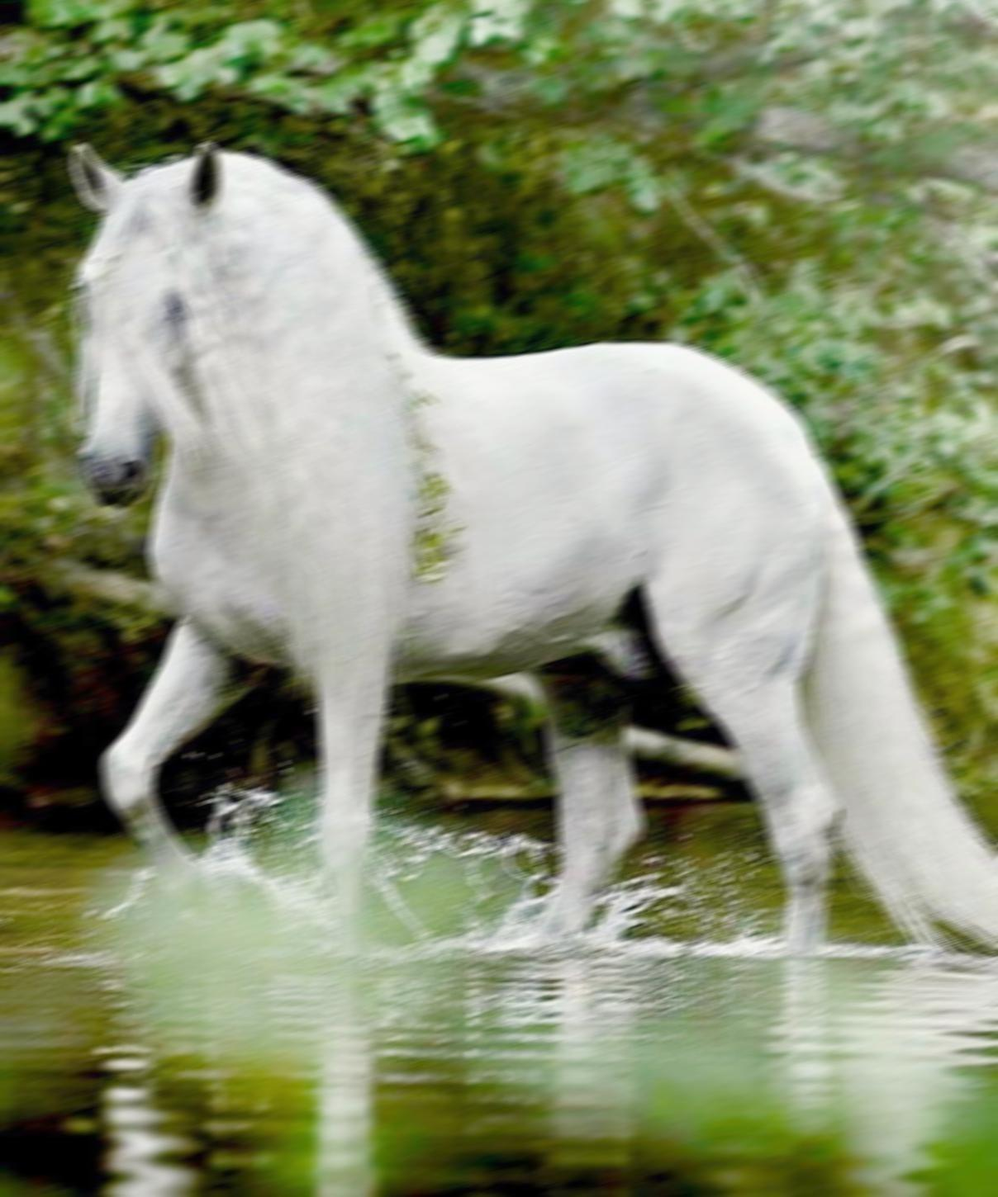horse: (65, 138, 998, 960)
